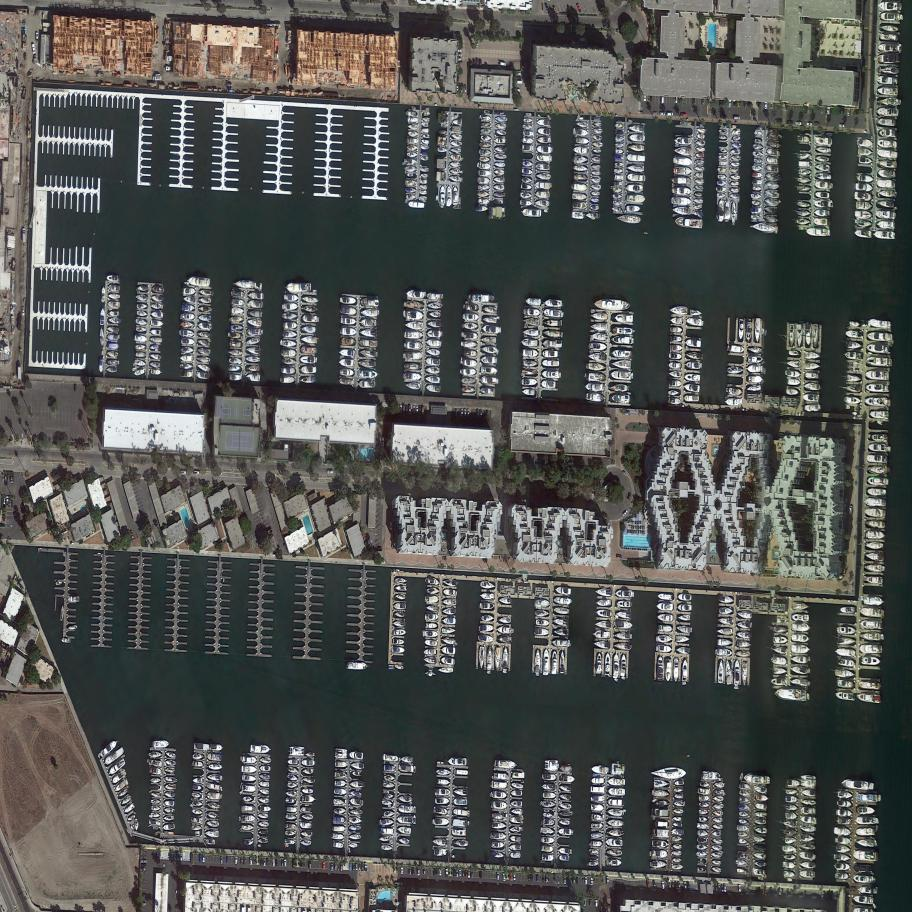ship: (102, 746, 126, 766), (651, 766, 687, 779), (593, 299, 631, 311), (841, 778, 875, 791), (774, 689, 808, 702), (98, 738, 120, 758), (750, 222, 779, 235), (107, 758, 127, 776), (109, 768, 129, 786), (675, 217, 704, 229), (865, 356, 893, 367), (865, 369, 890, 381), (866, 343, 892, 354), (744, 773, 770, 784), (859, 619, 884, 630), (860, 607, 885, 618), (488, 206, 506, 221), (617, 214, 641, 225), (187, 276, 211, 287), (853, 850, 877, 861), (867, 332, 893, 342), (865, 397, 891, 407), (113, 778, 130, 793), (468, 293, 496, 302), (286, 282, 311, 292), (857, 693, 882, 703), (876, 54, 900, 64), (800, 774, 817, 788), (864, 508, 887, 518), (866, 383, 889, 393), (876, 107, 898, 117), (878, 97, 900, 107), (877, 75, 899, 85), (878, 43, 900, 53), (867, 476, 889, 486), (233, 279, 255, 289), (870, 319, 892, 329), (858, 680, 880, 690), (878, 2, 902, 11), (806, 228, 830, 237), (859, 644, 883, 653), (494, 760, 518, 769), (652, 818, 670, 830), (874, 230, 895, 240), (864, 596, 885, 606), (671, 196, 692, 206), (358, 369, 379, 379), (835, 647, 856, 657), (611, 336, 634, 345), (854, 863, 871, 875), (522, 208, 542, 218), (861, 656, 881, 666), (359, 328, 379, 338), (586, 393, 606, 403), (651, 808, 671, 818), (860, 632, 882, 641), (250, 744, 272, 753), (406, 289, 425, 299), (844, 351, 863, 361), (877, 159, 898, 168), (877, 149, 898, 158), (877, 87, 898, 96), (880, 12, 901, 21), (865, 520, 886, 529), (865, 498, 886, 507), (866, 454, 887, 463), (868, 443, 889, 452), (610, 371, 631, 380), (611, 360, 632, 369), (853, 895, 874, 904), (836, 637, 857, 646), (856, 794, 879, 802), (346, 662, 369, 670), (545, 759, 559, 772), (611, 762, 625, 775), (119, 794, 133, 807), (123, 802, 137, 815), (626, 153, 646, 162), (626, 194, 646, 203), (683, 383, 701, 393), (845, 329, 863, 339), (543, 309, 563, 318), (609, 383, 629, 392), (612, 350, 632, 359), (835, 692, 855, 701), (701, 771, 721, 780), (854, 875, 874, 884), (859, 886, 879, 895), (792, 601, 810, 611), (835, 669, 855, 678), (754, 318, 761, 343), (502, 647, 509, 672), (627, 173, 646, 182), (877, 179, 896, 188), (877, 118, 896, 127), (880, 66, 899, 75), (876, 210, 895, 219), (866, 552, 885, 561), (865, 541, 884, 550), (866, 531, 885, 540), (869, 465, 888, 474), (854, 192, 873, 201), (674, 157, 693, 166), (673, 187, 692, 196), (359, 349, 378, 358), (361, 298, 380, 307), (870, 410, 889, 419), (585, 383, 604, 392), (451, 818, 470, 827), (790, 666, 809, 675), (791, 645, 810, 654), (792, 623, 811, 632), (448, 757, 467, 766), (340, 306, 357, 316), (406, 341, 423, 351), (522, 377, 539, 387), (652, 829, 669, 839), (855, 816, 876, 824), (494, 647, 501, 671), (486, 646, 493, 670), (534, 649, 541, 673), (626, 184, 644, 193), (878, 169, 896, 178), (855, 183, 873, 192), (674, 146, 692, 155), (674, 177, 692, 186), (673, 206, 691, 215), (405, 321, 423, 330), (406, 311, 424, 320), (358, 359, 376, 368), (686, 317, 704, 326), (803, 382, 821, 391), (523, 308, 541, 317), (482, 325, 500, 334), (405, 352, 423, 361), (588, 373, 606, 382), (612, 394, 630, 403), (608, 777, 626, 786), (833, 827, 851, 836), (543, 649, 549, 676), (791, 634, 809, 643), (656, 602, 674, 611), (152, 740, 170, 749), (657, 657, 664, 680), (681, 659, 688, 682), (877, 140, 897, 148), (359, 339, 379, 347), (543, 340, 563, 348), (855, 828, 875, 836), (673, 657, 679, 683), (596, 653, 603, 675), (879, 129, 896, 138), (855, 229, 872, 238), (340, 317, 357, 326), (340, 327, 357, 336), (338, 358, 355, 367), (361, 308, 378, 317), (747, 355, 764, 364), (685, 361, 702, 370), (844, 396, 861, 405), (803, 393, 820, 402), (804, 362, 821, 371), (480, 376, 497, 385), (405, 372, 422, 381), (591, 332, 608, 341), (589, 352, 606, 361), (523, 317, 540, 326), (521, 338, 538, 347), (542, 370, 559, 379), (651, 850, 668, 859), (652, 839, 669, 848), (837, 680, 854, 689), (491, 780, 508, 789), (591, 765, 608, 774), (608, 798, 625, 807), (606, 838, 623, 847), (288, 746, 305, 755), (834, 862, 851, 871), (799, 851, 816, 860), (555, 586, 572, 595), (594, 630, 611, 639), (838, 658, 855, 667), (616, 621, 633, 630), (616, 589, 633, 598), (879, 33, 898, 41), (865, 564, 884, 572), (867, 488, 886, 496), (674, 137, 693, 145), (814, 137, 833, 145), (404, 331, 423, 339), (405, 301, 424, 309), (724, 398, 743, 406), (544, 299, 563, 307), (856, 839, 875, 847), (857, 806, 876, 814), (837, 627, 856, 635), (734, 660, 740, 685), (726, 660, 732, 685), (613, 653, 619, 678), (665, 658, 671, 683), (612, 327, 633, 334), (572, 201, 588, 210), (535, 181, 551, 190), (877, 200, 895, 208), (855, 211, 873, 219), (815, 181, 833, 189), (674, 167, 692, 175), (245, 373, 261, 382), (340, 337, 356, 346), (340, 296, 356, 305), (684, 373, 700, 382), (686, 339, 702, 348), (813, 324, 819, 348), (526, 297, 542, 306), (462, 340, 478, 349), (461, 376, 477, 385), (670, 306, 688, 314), (589, 343, 607, 351), (615, 314, 633, 322), (492, 801, 508, 810), (491, 821, 507, 830), (608, 788, 626, 796), (480, 581, 496, 590), (553, 617, 569, 626), (596, 588, 612, 597), (741, 662, 747, 686), (790, 678, 808, 686), (716, 648, 732, 657), (605, 653, 611, 677), (614, 642, 632, 650), (614, 631, 630, 640), (657, 634, 673, 643), (397, 815, 413, 824), (383, 754, 399, 763), (147, 818, 160, 829), (805, 325, 812, 345), (334, 749, 348, 759), (439, 185, 445, 208), (746, 319, 752, 342), (551, 651, 557, 674), (620, 654, 626, 677), (627, 164, 644, 172), (629, 134, 646, 142), (408, 201, 425, 209), (877, 221, 894, 229), (866, 576, 883, 584), (814, 200, 831, 208), (300, 336, 317, 344), (359, 380, 376, 388), (360, 319, 377, 327), (687, 352, 704, 360), (804, 404, 821, 412), (481, 367, 498, 375), (591, 312, 608, 320), (589, 363, 606, 371), (542, 359, 559, 367), (553, 607, 570, 615), (554, 597, 571, 605), (594, 621, 611, 629), (791, 655, 808, 663), (792, 614, 809, 622), (593, 641, 610, 649), (573, 155, 588, 164), (573, 146, 588, 155), (535, 199, 550, 208), (340, 368, 355, 377), (247, 318, 262, 327), (847, 341, 862, 350), (426, 375, 441, 384), (464, 331, 479, 340), (406, 382, 421, 391), (654, 799, 669, 808), (479, 634, 494, 643), (737, 640, 752, 649), (616, 610, 631, 619), (241, 804, 256, 813), (880, 25, 899, 32), (718, 200, 724, 222), (797, 325, 803, 347), (789, 324, 795, 346), (479, 647, 485, 669), (117, 788, 129, 799), (572, 183, 588, 191), (629, 144, 645, 152), (879, 189, 895, 197), (857, 139, 873, 147), (857, 148, 873, 156), (856, 202, 872, 210), (815, 163, 831, 171), (301, 366, 317, 374), (301, 346, 317, 354), (302, 315, 318, 323), (281, 349, 297, 357), (426, 293, 442, 301), (339, 349, 355, 357), (282, 312, 298, 320), (247, 328, 263, 336), (729, 345, 745, 353), (727, 366, 743, 374), (846, 385, 862, 393), (480, 387, 496, 395), (481, 336, 497, 344), (523, 328, 539, 336), (523, 349, 539, 357), (522, 369, 538, 377), (651, 861, 667, 869), (654, 780, 670, 788), (491, 832, 507, 840), (607, 808, 623, 816), (608, 829, 624, 837), (606, 859, 622, 867), (800, 807, 816, 815), (801, 816, 817, 824), (799, 870, 815, 878), (800, 861, 816, 869), (800, 843, 816, 851), (837, 791, 853, 799), (434, 818, 450, 826), (534, 599, 550, 607), (534, 628, 550, 636), (552, 639, 568, 647), (735, 650, 751, 658), (737, 611, 753, 619), (657, 625, 673, 633), (656, 645, 672, 653), (676, 625, 692, 633), (717, 627, 733, 635), (717, 639, 733, 647), (453, 808, 469, 816), (398, 805, 414, 813), (241, 765, 257, 773), (446, 186, 452, 207), (134, 334, 148, 343), (544, 320, 562, 327), (543, 330, 561, 337), (537, 145, 552, 153), (815, 191, 830, 199), (859, 175, 874, 183), (301, 326, 316, 334), (284, 303, 299, 311), (282, 340, 297, 348), (246, 346, 261, 354), (282, 330, 297, 338), (339, 378, 354, 386), (248, 310, 263, 318), (248, 300, 263, 308), (248, 292, 263, 300), (180, 329, 195, 337), (748, 375, 763, 383), (805, 352, 820, 360), (846, 375, 861, 383), (804, 372, 819, 380), (482, 346, 497, 354), (481, 356, 496, 364), (464, 313, 479, 321), (426, 385, 441, 393), (543, 350, 558, 358), (541, 380, 556, 388), (654, 789, 669, 797), (492, 791, 507, 799), (490, 851, 505, 859), (432, 838, 447, 846), (608, 819, 623, 827), (801, 789, 816, 797), (837, 809, 852, 817), (837, 800, 852, 808), (443, 579, 458, 587), (497, 626, 512, 634), (479, 624, 494, 632), (480, 592, 495, 600), (554, 628, 569, 636), (442, 598, 457, 606), (392, 629, 407, 637), (771, 678, 786, 686), (736, 631, 751, 639), (736, 621, 751, 629), (719, 596, 734, 604), (773, 626, 788, 634), (773, 636, 788, 644), (772, 657, 787, 665), (718, 659, 723, 683), (658, 593, 673, 601), (658, 614, 673, 622), (677, 593, 692, 601), (348, 816, 363, 824), (349, 780, 364, 788), (453, 798, 468, 806), (435, 797, 450, 805), (436, 788, 451, 796), (453, 788, 468, 796), (206, 782, 221, 790), (208, 763, 223, 771), (241, 815, 256, 823), (628, 125, 645, 132), (814, 218, 831, 225), (302, 296, 319, 303), (404, 363, 421, 370), (591, 323, 608, 330), (133, 368, 146, 377), (560, 651, 565, 674), (575, 129, 589, 137), (574, 174, 588, 182), (572, 193, 588, 200), (537, 127, 551, 135), (536, 155, 552, 162), (536, 163, 550, 171), (536, 173, 552, 180), (535, 191, 551, 198), (478, 169, 492, 177), (814, 209, 830, 216), (872, 434, 888, 441), (859, 157, 873, 165), (815, 173, 831, 180), (797, 135, 811, 143), (282, 367, 296, 375), (281, 376, 295, 384), (300, 357, 316, 364), (302, 306, 318, 313), (231, 298, 245, 306), (427, 330, 441, 338), (427, 302, 443, 309), (246, 337, 260, 345), (150, 319, 164, 327), (180, 321, 194, 329), (196, 372, 210, 380), (748, 346, 762, 354), (747, 365, 761, 373), (746, 385, 762, 392), (729, 388, 743, 396), (684, 395, 700, 402), (787, 360, 801, 368), (463, 359, 477, 367), (463, 368, 477, 376), (464, 322, 478, 330), (483, 316, 497, 324), (561, 775, 575, 783), (606, 849, 622, 856), (785, 795, 799, 803), (837, 837, 851, 845), (837, 845, 851, 853), (835, 854, 851, 861), (782, 845, 796, 853), (782, 861, 796, 869), (800, 834, 814, 842), (801, 825, 817, 832), (837, 818, 853, 825), (499, 596, 513, 604), (596, 610, 612, 617), (536, 619, 550, 627), (426, 578, 440, 586), (442, 647, 456, 655), (425, 596, 439, 604), (718, 617, 732, 625), (719, 607, 733, 615), (617, 600, 631, 608), (397, 826, 411, 834), (398, 765, 414, 772), (242, 785, 256, 793), (205, 830, 219, 838), (725, 200, 730, 222), (731, 201, 736, 223), (592, 785, 604, 794), (573, 165, 588, 172), (796, 218, 811, 225), (857, 220, 872, 227), (815, 155, 830, 162), (764, 216, 779, 223), (282, 358, 297, 365), (301, 377, 316, 384), (284, 294, 299, 301), (228, 349, 243, 356), (246, 356, 261, 363), (283, 322, 298, 329), (425, 349, 440, 356), (739, 319, 744, 340), (786, 371, 801, 378), (523, 360, 538, 367), (491, 813, 506, 820), (454, 840, 469, 847), (454, 769, 469, 776), (783, 820, 798, 827), (452, 829, 467, 836), (442, 627, 457, 634), (840, 607, 855, 614), (677, 604, 692, 611), (350, 762, 365, 769), (349, 752, 364, 759), (436, 769, 451, 776), (397, 795, 412, 802), (207, 754, 222, 761), (242, 757, 257, 764), (242, 775, 257, 782), (478, 162, 491, 170), (767, 140, 780, 148), (230, 340, 243, 348), (427, 339, 440, 347), (135, 318, 148, 326), (183, 304, 196, 312), (181, 346, 194, 354), (180, 354, 193, 362), (197, 364, 210, 372), (670, 317, 683, 325), (434, 848, 447, 856), (541, 845, 554, 853), (559, 828, 572, 836), (511, 770, 524, 778), (785, 812, 798, 820), (427, 587, 440, 595), (426, 613, 439, 621), (441, 657, 454, 665), (774, 667, 787, 675), (149, 767, 162, 775), (207, 792, 220, 800), (453, 186, 458, 206), (576, 138, 590, 145), (537, 119, 551, 126), (537, 137, 551, 144), (477, 177, 491, 184), (798, 169, 812, 176), (766, 148, 780, 155), (427, 321, 441, 328), (108, 317, 122, 324), (181, 338, 195, 345), (180, 363, 194, 370), (197, 331, 211, 338), (198, 306, 212, 313), (426, 358, 440, 365), (426, 367, 440, 374), (668, 380, 682, 387), (669, 353, 683, 360), (787, 379, 801, 386), (464, 350, 478, 357), (465, 304, 479, 311), (697, 788, 711, 795), (753, 852, 767, 859), (542, 783, 556, 790), (543, 774, 557, 781), (494, 773, 508, 780), (542, 801, 556, 808), (590, 822, 604, 829), (591, 804, 605, 811), (591, 795, 605, 802), (591, 777, 605, 784), (541, 837, 555, 844), (835, 873, 849, 880), (784, 829, 798, 836), (498, 636, 512, 643), (481, 615, 495, 622), (481, 603, 495, 610), (535, 610, 549, 617), (443, 589, 457, 596), (424, 631, 438, 638), (424, 639, 438, 646), (442, 608, 456, 615), (597, 599, 611, 606), (774, 647, 788, 654), (676, 636, 690, 643), (331, 833, 345, 840), (350, 798, 364, 805), (302, 796, 316, 803), (437, 779, 451, 786), (334, 788, 348, 795), (209, 744, 223, 751), (301, 759, 315, 766), (572, 211, 584, 219), (232, 307, 244, 315), (134, 359, 146, 367), (755, 802, 767, 810), (542, 854, 554, 862), (204, 838, 216, 846), (59, 606, 65, 622), (499, 616, 511, 624), (207, 820, 219, 828), (586, 212, 599, 219), (404, 165, 417, 172), (493, 176, 506, 183), (494, 153, 507, 160), (798, 210, 811, 217), (766, 157, 779, 164), (765, 198, 778, 205), (232, 291, 245, 298), (231, 316, 244, 323), (231, 332, 244, 339), (229, 357, 242, 364), (151, 311, 164, 318), (152, 286, 165, 293), (108, 301, 121, 308), (107, 326, 120, 333), (183, 288, 196, 295), (183, 296, 196, 303), (182, 313, 195, 320), (180, 371, 193, 378), (197, 356, 210, 363), (198, 348, 211, 355), (136, 294, 149, 301), (668, 398, 681, 405), (669, 362, 682, 369), (670, 327, 683, 334), (786, 388, 799, 395), (484, 306, 497, 313), (522, 389, 535, 396), (671, 828, 684, 835), (787, 780, 800, 787), (756, 795, 769, 802), (696, 823, 709, 830), (543, 792, 556, 799), (559, 785, 572, 792), (511, 782, 524, 789), (509, 817, 522, 824), (509, 826, 522, 833), (509, 844, 522, 851), (591, 832, 604, 839), (784, 854, 797, 861), (783, 871, 796, 878), (67, 595, 80, 602), (436, 808, 449, 815), (392, 647, 405, 654), (393, 620, 406, 627), (424, 657, 437, 664), (442, 637, 455, 644), (678, 614, 691, 621), (333, 825, 346, 832), (332, 816, 345, 823), (381, 819, 394, 826), (335, 761, 348, 768), (149, 751, 162, 758), (208, 802, 221, 809), (207, 812, 220, 819), (241, 824, 254, 831), (257, 821, 270, 828), (816, 147, 831, 153), (438, 667, 453, 673), (100, 308, 105, 325), (520, 200, 532, 207), (520, 192, 532, 199), (522, 145, 534, 152), (627, 206, 641, 212), (449, 175, 461, 182), (450, 140, 462, 147), (450, 133, 462, 140), (405, 158, 417, 165), (479, 198, 491, 205), (493, 184, 505, 191), (494, 161, 506, 168), (752, 151, 764, 158), (752, 143, 764, 150), (231, 324, 243, 331), (230, 374, 242, 381), (429, 311, 441, 318), (135, 352, 147, 359), (150, 369, 162, 376), (150, 303, 162, 310), (151, 295, 163, 302), (108, 284, 120, 291), (107, 342, 119, 349), (197, 340, 211, 346), (198, 323, 212, 329), (199, 289, 211, 296), (669, 371, 681, 378), (690, 309, 702, 316), (754, 787, 768, 793), (735, 859, 747, 866), (696, 844, 708, 851), (559, 793, 571, 800), (560, 765, 572, 772), (510, 790, 522, 797), (491, 842, 505, 848), (543, 828, 555, 835), (543, 819, 555, 826), (802, 799, 816, 805), (786, 804, 798, 811), (785, 837, 797, 844), (67, 624, 79, 631), (677, 647, 689, 654), (349, 809, 363, 815), (287, 774, 299, 781), (302, 777, 316, 783), (285, 790, 297, 797), (300, 822, 312, 829), (334, 808, 346, 815), (383, 811, 395, 818), (379, 835, 391, 842), (381, 845, 393, 852), (383, 782, 395, 789), (384, 765, 396, 772), (401, 756, 413, 763), (335, 771, 347, 778), (207, 774, 221, 780), (192, 753, 204, 760), (164, 791, 176, 798), (260, 757, 272, 764), (191, 817, 203, 824), (101, 287, 106, 303), (127, 814, 137, 822), (406, 138, 419, 144), (495, 116, 508, 122), (479, 142, 492, 148), (477, 191, 490, 197), (798, 177, 811, 183), (798, 186, 811, 192), (797, 202, 810, 208), (765, 190, 778, 196), (766, 165, 779, 171), (764, 207, 777, 213), (149, 354, 162, 360), (150, 337, 163, 343), (108, 293, 121, 299), (106, 351, 119, 357), (198, 315, 211, 321), (198, 297, 211, 303), (463, 387, 476, 393), (736, 825, 749, 831), (559, 803, 572, 809), (560, 811, 573, 817), (671, 864, 684, 870), (590, 841, 603, 847), (785, 789, 798, 795), (395, 578, 408, 584), (425, 623, 438, 629), (443, 618, 456, 624), (592, 141, 603, 148), (522, 177, 533, 184), (522, 161, 533, 168), (408, 130, 419, 137), (407, 151, 418, 158), (479, 156, 490, 163), (494, 169, 505, 176), (800, 153, 811, 160), (249, 365, 260, 372), (136, 326, 147, 333), (137, 310, 148, 317), (739, 783, 750, 790), (754, 836, 765, 843), (395, 611, 406, 618), (287, 782, 298, 789), (286, 823, 297, 830), (384, 774, 395, 781), (335, 780, 346, 787), (150, 777, 161, 784), (260, 765, 271, 772), (100, 327, 104, 346), (590, 184, 602, 190), (521, 184, 533, 190), (521, 169, 533, 175), (522, 138, 534, 144), (449, 168, 461, 174), (449, 161, 461, 167), (405, 187, 417, 193), (495, 129, 507, 135), (494, 138, 506, 144), (480, 149, 492, 155), (478, 184, 490, 190), (476, 206, 488, 212), (766, 173, 778, 179), (137, 285, 149, 291), (149, 362, 161, 368), (107, 275, 119, 281), (107, 334, 119, 340), (670, 345, 682, 351), (698, 795, 710, 801), (739, 790, 751, 796), (755, 812, 767, 818), (754, 819, 766, 825), (755, 861, 767, 867), (753, 869, 765, 875), (696, 851, 708, 857), (697, 830, 709, 836), (591, 814, 603, 820), (558, 819, 570, 825), (150, 759, 162, 765), (393, 639, 405, 645), (394, 603, 406, 609), (395, 585, 407, 591), (424, 649, 436, 655), (287, 767, 299, 773), (349, 834, 361, 840), (349, 825, 361, 831), (350, 791, 362, 797), (285, 814, 297, 820), (284, 839, 296, 845), (300, 840, 312, 846), (333, 799, 345, 805), (381, 800, 393, 806), (163, 824, 175, 830), (260, 806, 272, 812), (259, 774, 271, 780), (191, 825, 203, 831), (149, 344, 159, 351), (136, 344, 146, 351), (754, 828, 768, 833), (99, 359, 104, 373), (577, 121, 588, 127), (522, 124, 533, 130), (612, 187, 623, 193), (450, 154, 461, 160), (450, 147, 461, 153), (407, 145, 418, 151), (406, 180, 417, 186), (481, 128, 492, 134), (481, 135, 492, 141), (716, 180, 727, 186), (751, 207, 762, 213), (751, 193, 762, 199), (752, 179, 763, 185), (752, 172, 763, 178), (752, 165, 763, 171), (230, 366, 241, 372), (150, 329, 161, 335), (107, 359, 118, 365), (106, 367, 117, 373), (137, 303, 148, 309), (668, 390, 679, 396), (408, 124, 419, 130), (408, 117, 419, 123), (849, 321, 860, 327), (714, 782, 725, 788), (713, 789, 724, 795), (713, 803, 724, 809), (712, 817, 723, 823), (712, 824, 723, 830), (711, 845, 722, 851), (711, 852, 722, 858), (699, 802, 710, 808), (738, 804, 749, 810), (697, 837, 708, 843), (672, 836, 683, 842), (511, 801, 522, 807), (511, 808, 522, 814), (510, 836, 521, 842), (510, 853, 521, 859), (588, 861, 599, 867), (559, 848, 570, 854), (395, 594, 406, 600), (427, 605, 438, 611), (333, 842, 344, 848), (287, 807, 298, 813), (285, 830, 296, 836), (302, 814, 313, 820), (399, 838, 410, 844), (302, 788, 313, 794), (303, 769, 314, 775), (192, 761, 203, 767), (165, 760, 176, 766), (165, 784, 176, 790), (164, 800, 175, 806), (163, 815, 174, 821), (242, 796, 253, 802), (258, 829, 269, 835), (258, 813, 269, 819), (258, 797, 269, 803), (258, 781, 269, 787), (192, 801, 203, 807), (192, 809, 203, 815), (238, 788, 245, 797), (593, 128, 603, 134), (591, 156, 601, 162), (591, 164, 601, 170), (524, 131, 534, 137), (614, 155, 624, 161), (614, 168, 624, 174), (613, 200, 623, 206), (611, 206, 621, 212), (406, 194, 416, 200), (495, 123, 507, 128), (481, 115, 491, 121), (494, 192, 506, 197), (717, 186, 727, 192), (729, 194, 741, 199), (731, 155, 741, 161), (693, 198, 703, 204), (717, 167, 727, 173), (753, 158, 763, 164), (672, 336, 682, 342), (406, 111, 416, 117), (713, 810, 723, 816), (712, 867, 722, 873), (674, 780, 684, 786), (674, 801, 684, 807), (672, 822, 682, 828), (739, 811, 749, 817), (699, 809, 709, 815), (671, 850, 681, 856), (672, 857, 682, 863), (559, 855, 569, 861), (301, 831, 313, 836), (193, 778, 203, 784), (166, 752, 176, 758), (165, 767, 175, 773), (151, 791, 161, 797), (151, 799, 161, 805), (258, 838, 268, 844), (259, 789, 269, 795), (590, 178, 601, 183), (592, 135, 603, 140), (590, 191, 601, 196), (694, 166, 705, 171), (731, 143, 742, 148), (713, 796, 724, 801), (712, 838, 723, 843), (673, 809, 684, 814), (739, 797, 750, 802), (164, 777, 175, 782), (164, 808, 175, 813), (615, 123, 624, 129), (438, 147, 447, 153), (495, 146, 504, 152), (752, 200, 761, 206), (699, 817, 708, 823), (62, 637, 71, 643), (286, 798, 295, 804), (591, 171, 601, 176), (695, 160, 705, 165), (695, 147, 705, 152), (615, 136, 625, 141), (612, 194, 622, 199), (523, 118, 533, 123), (452, 120, 462, 125), (481, 122, 491, 127), (493, 200, 503, 205), (694, 179, 704, 184), (694, 185, 704, 190), (730, 175, 740, 180), (717, 174, 727, 179), (751, 215, 761, 220), (752, 186, 762, 191), (109, 311, 119, 316), (789, 351, 799, 356), (700, 782, 710, 787), (674, 788, 684, 793), (738, 832, 748, 837), (543, 813, 553, 818), (352, 771, 362, 776), (288, 759, 298, 764), (301, 807, 311, 812), (384, 794, 394, 799), (150, 785, 160, 790), (151, 806, 161, 811), (150, 813, 160, 818), (243, 841, 253, 846), (739, 838, 747, 844), (590, 198, 599, 203), (590, 206, 599, 211), (615, 143, 624, 148), (696, 153, 705, 158), (696, 140, 705, 145), (697, 128, 706, 133), (615, 162, 624, 167), (615, 175, 624, 180), (614, 181, 623, 186), (419, 185, 428, 190), (420, 173, 429, 178), (420, 167, 429, 172), (717, 193, 726, 198), (730, 181, 739, 186), (730, 168, 739, 173), (731, 149, 740, 154), (732, 130, 741, 135), (719, 135, 728, 140), (719, 129, 728, 134), (719, 161, 728, 166), (754, 131, 763, 136), (719, 155, 728, 160), (712, 860, 721, 865), (675, 794, 684, 799), (739, 819, 748, 824), (737, 868, 746, 873), (673, 844, 682, 849), (589, 849, 598, 854), (453, 205, 462, 210), (848, 505, 853, 514), (395, 665, 404, 670), (349, 843, 358, 848), (193, 785, 202, 790), (306, 752, 315, 757), (192, 793, 201, 798), (876, 420, 883, 426), (154, 830, 160, 837), (594, 122, 602, 127), (593, 149, 601, 154), (697, 134, 705, 139), (616, 149, 624, 154), (419, 196, 427, 201), (419, 190, 427, 195), (695, 173, 703, 178), (730, 188, 740, 192), (720, 148, 728, 153), (421, 145, 429, 150), (422, 134, 430, 139), (422, 117, 430, 122), (697, 867, 705, 872), (712, 831, 720, 836), (420, 157, 429, 161), (731, 162, 740, 166), (673, 817, 682, 821), (875, 817, 879, 826), (739, 771, 743, 780), (135, 819, 138, 831), (420, 179, 427, 184), (695, 192, 702, 197), (422, 122, 429, 127), (484, 110, 491, 115), (55, 581, 62, 586), (421, 140, 429, 144), (733, 136, 741, 140), (694, 205, 702, 209), (421, 128, 429, 132), (439, 130, 447, 134), (413, 805, 417, 813), (806, 692, 810, 700), (568, 639, 572, 647), (424, 112, 430, 117), (526, 112, 532, 117), (435, 787, 438, 797), (763, 874, 768, 880), (787, 877, 793, 882), (454, 641, 459, 647), (413, 815, 416, 824), (240, 781, 243, 790), (433, 805, 436, 814), (535, 672, 540, 677), (632, 591, 635, 599), (573, 128, 576, 136), (460, 357, 463, 365), (403, 310, 406, 318), (571, 829, 574, 837), (733, 686, 739, 690), (486, 671, 492, 675), (435, 195, 438, 202), (461, 341, 464, 348), (280, 339, 283, 346), (220, 785, 223, 792), (432, 819, 435, 826), (540, 827, 543, 834), (540, 801, 543, 808), (649, 850, 652, 857), (576, 115, 580, 120), (414, 764, 416, 774), (682, 682, 687, 686), (630, 633, 633, 639), (403, 301, 406, 307), (437, 762, 443, 765), (888, 447, 891, 453), (98, 753, 101, 759), (220, 775, 223, 781), (539, 861, 545, 864), (422, 631, 425, 637), (168, 831, 174, 834), (220, 792, 222, 800), (468, 809, 470, 817), (879, 794, 881, 802), (614, 677, 618, 681), (477, 162, 480, 167), (462, 324, 465, 329), (281, 304, 284, 309), (228, 318, 231, 323), (622, 809, 627, 812), (808, 656, 811, 661), (461, 176, 463, 183), (808, 680, 810, 687), (570, 848, 572, 855), (881, 633, 883, 640), (463, 304, 466, 308), (452, 855, 455, 859), (542, 774, 544, 780), (258, 844, 261, 848), (463, 314, 465, 319), (460, 370, 462, 375), (462, 332, 464, 337), (228, 332, 230, 337), (239, 816, 241, 821), (147, 759, 149, 764), (808, 669, 810, 673), (164, 832, 168, 834), (491, 791, 492, 797)
small-vehicle: (21, 229, 26, 243), (622, 507, 629, 517), (693, 211, 703, 218), (544, 2, 550, 13), (153, 74, 162, 81), (622, 469, 629, 477), (576, 2, 581, 13), (129, 530, 135, 539), (31, 43, 36, 53), (680, 112, 688, 118), (552, 5, 558, 13), (499, 61, 507, 67), (32, 55, 37, 64), (22, 87, 26, 98), (778, 889, 783, 897), (476, 408, 480, 418), (189, 853, 193, 863), (21, 307, 25, 316), (308, 860, 312, 869), (408, 404, 411, 415), (646, 881, 650, 889), (23, 53, 27, 61), (475, 57, 479, 65), (826, 107, 830, 115), (743, 99, 747, 107), (452, 868, 456, 876), (272, 859, 276, 867), (363, 863, 367, 871), (327, 469, 333, 474), (181, 470, 187, 475), (616, 554, 622, 559), (468, 868, 471, 878), (467, 408, 470, 418), (199, 853, 202, 863), (661, 882, 665, 889), (686, 882, 690, 889), (194, 471, 201, 475), (590, 878, 594, 885), (176, 890, 183, 894), (692, 98, 696, 105), (595, 900, 599, 907), (2, 497, 6, 504), (628, 492, 632, 499), (774, 120, 781, 124), (770, 102, 774, 109), (764, 102, 768, 109), (733, 116, 740, 120), (173, 854, 177, 861), (580, 38, 587, 42), (396, 882, 403, 886), (390, 522, 393, 531), (8, 495, 11, 504), (2, 473, 5, 482), (399, 404, 402, 413), (476, 39, 479, 48), (456, 869, 459, 878), (445, 868, 448, 877), (292, 859, 295, 868), (839, 123, 844, 128), (606, 877, 609, 885), (674, 880, 677, 888), (721, 884, 724, 892), (6, 496, 9, 504), (584, 878, 588, 884), (141, 859, 147, 863), (141, 867, 147, 871), (719, 100, 723, 106), (5, 473, 8, 481), (521, 61, 524, 69), (644, 94, 647, 102), (847, 109, 850, 117), (667, 112, 673, 116), (570, 876, 573, 884), (545, 874, 548, 882), (542, 875, 545, 883), (513, 873, 516, 881), (510, 873, 513, 881), (503, 873, 506, 881), (497, 872, 500, 880), (465, 870, 469, 876), (462, 869, 465, 877), (402, 404, 405, 412), (480, 409, 483, 417), (461, 409, 464, 417), (422, 407, 425, 415), (419, 406, 422, 414), (412, 406, 415, 414), (177, 853, 180, 861), (220, 856, 223, 864), (180, 853, 183, 861), (439, 868, 442, 876), (436, 868, 439, 876), (412, 868, 415, 876), (340, 864, 343, 872), (334, 862, 337, 870), (10, 475, 13, 483), (672, 881, 675, 888), (684, 882, 687, 889), (718, 883, 721, 890), (74, 385, 77, 392), (701, 99, 704, 106), (728, 101, 731, 108), (721, 115, 728, 118), (652, 112, 659, 115), (171, 853, 174, 860), (479, 58, 482, 65), (661, 97, 664, 104), (675, 97, 678, 104), (589, 898, 592, 905), (536, 875, 539, 882), (260, 859, 263, 866), (252, 858, 255, 865), (249, 858, 252, 865), (202, 855, 205, 862), (284, 860, 287, 867), (358, 864, 361, 871), (349, 864, 352, 871), (517, 80, 522, 84), (517, 71, 521, 76), (807, 122, 812, 126), (796, 121, 801, 125), (464, 408, 466, 418), (406, 404, 408, 414), (678, 882, 681, 888), (141, 864, 147, 867), (814, 122, 820, 125), (786, 120, 792, 123), (564, 875, 566, 884), (464, 85, 467, 91), (267, 858, 269, 867), (739, 886, 741, 894), (458, 53, 462, 57), (528, 874, 530, 882), (471, 870, 473, 878), (416, 406, 418, 414), (264, 859, 266, 867), (241, 857, 243, 865), (323, 861, 325, 869), (433, 868, 435, 876), (418, 867, 420, 875), (409, 868, 411, 876), (331, 863, 333, 871), (142, 902, 147, 905), (457, 58, 462, 61), (660, 112, 665, 115), (724, 885, 726, 892), (36, 33, 38, 40), (157, 853, 159, 860), (531, 874, 533, 881), (459, 870, 461, 877), (276, 859, 278, 866), (244, 857, 246, 864), (235, 857, 237, 864), (226, 856, 228, 863), (401, 867, 403, 874), (361, 864, 363, 871), (356, 864, 358, 871), (353, 864, 355, 871), (669, 883, 671, 889), (822, 894, 824, 900), (458, 48, 461, 52), (480, 871, 482, 877), (576, 877, 578, 883), (762, 328, 764, 334), (281, 861, 283, 867), (423, 869, 425, 874), (457, 86, 458, 90)
